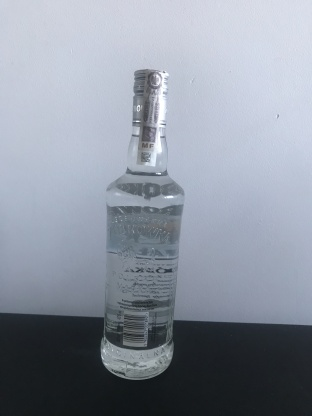nakretka: (130, 64, 171, 130)
